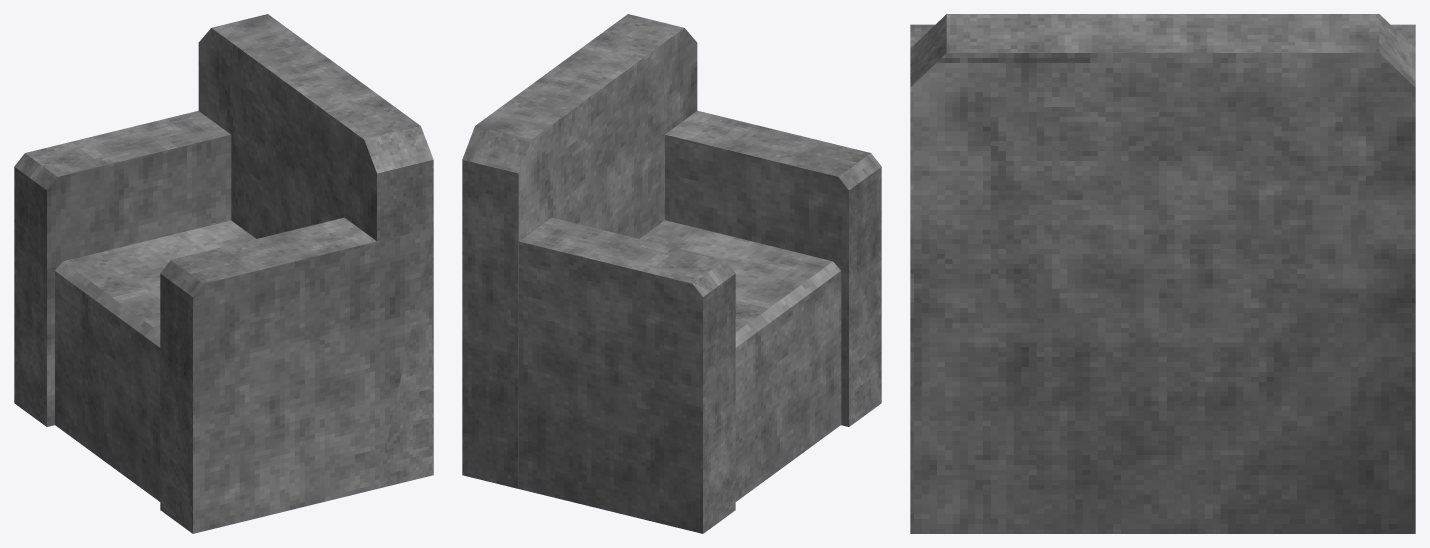
Rendered from sofa.fbx.
3 renders of one model, left to right at view 1: azimuth 30°, elevation 25°; view 2: azimuth 150°, elevation 25°; view 3: azimuth 270°, elevation 25°, orthographic. The views are drawn at different scales.
Parts seen in each view (by area): view 1: sofa; view 2: sofa; view 3: sofa.
Part boxes in pixels (bbox=[...]): sofa: bbox=[14, 14, 433, 533]; sofa: bbox=[462, 14, 881, 533]; sofa: bbox=[910, 14, 1415, 533].
Size of the model in its own units: 440 by 594 by 566.
